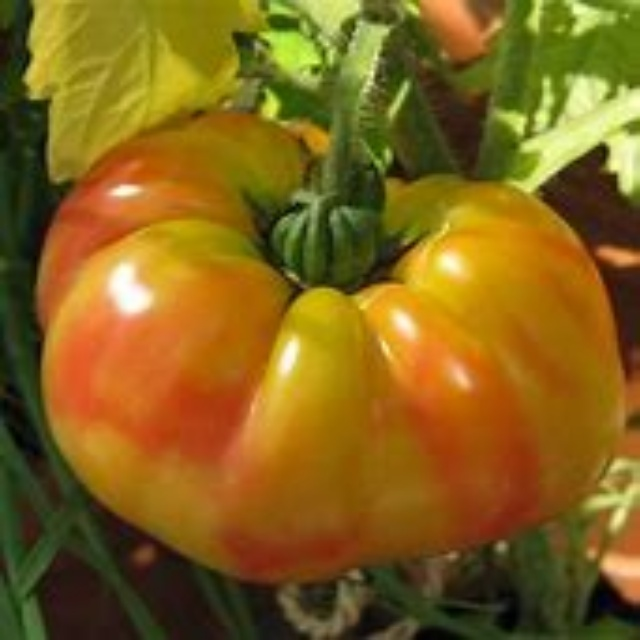tomato: (29, 113, 631, 586)
